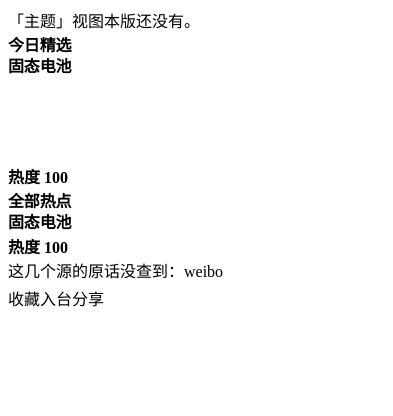
入台之后 › 成了、却没说是哪一个——**留在原地并说清楚**，NEVER 拼一个 id 跳过去
The width and height of the screenshot is (393, 416).
Click the button with test id "action-workbench".
click(56, 298)  # box [40,282,72,314]
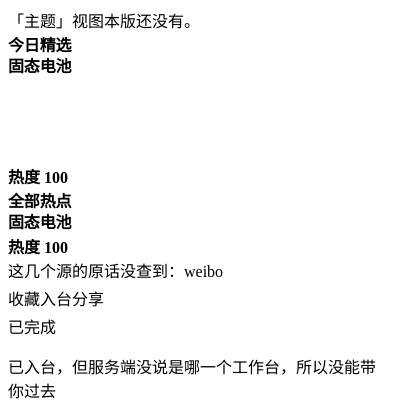
Now the message with test id "action-note" reads "已入台，但服务端没说是哪一个工作台，所以没能带你过去", box [8,359,376,400]
